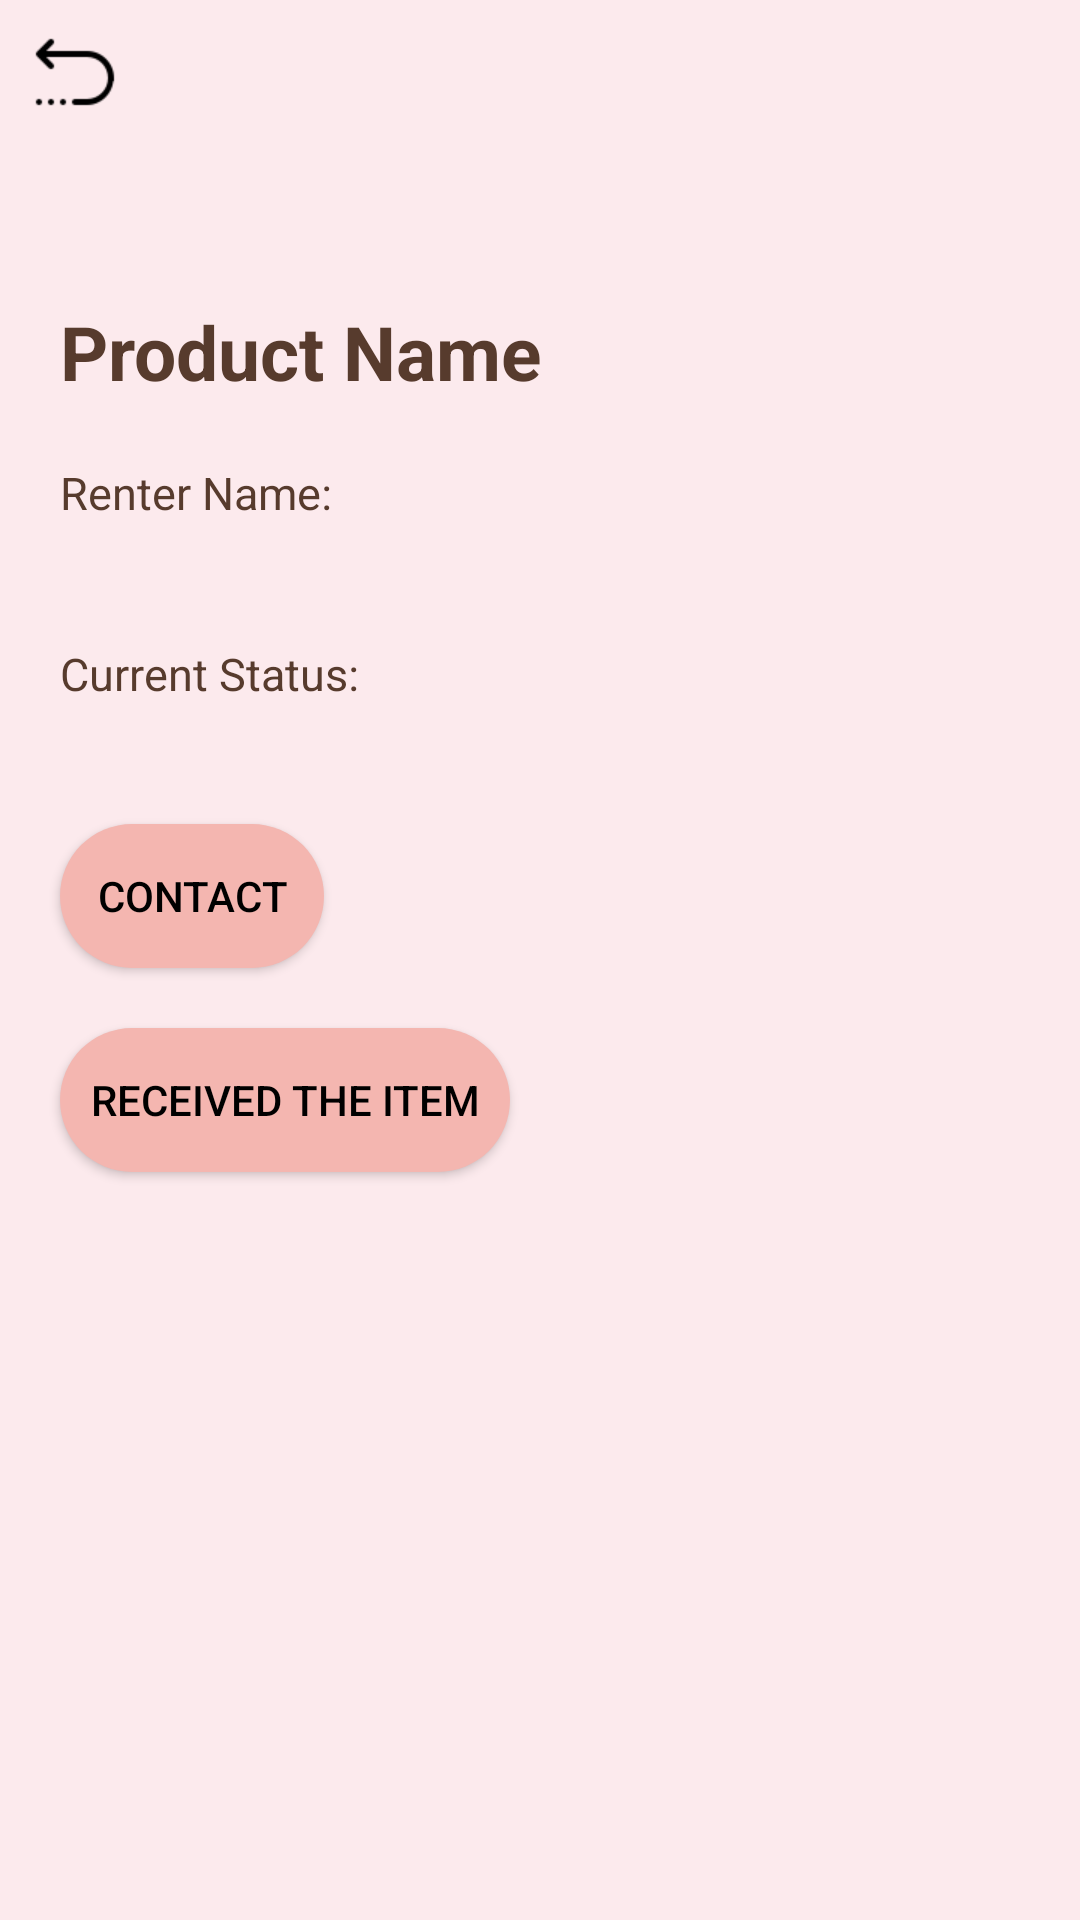

Where to tap for icons on this 1080x1920 app screen, as [x,y]:
return: [75,72]
